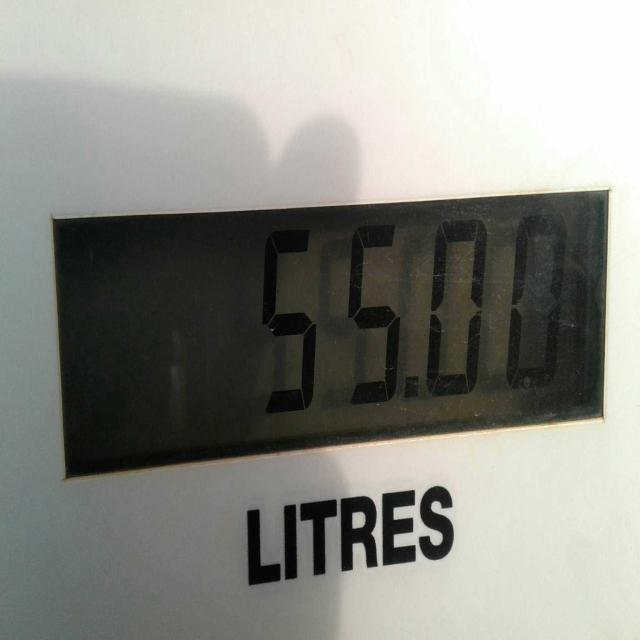.: (408, 377, 419, 401)
0: (505, 214, 566, 391), (430, 217, 484, 402)
5: (261, 231, 319, 414), (355, 223, 400, 401)
